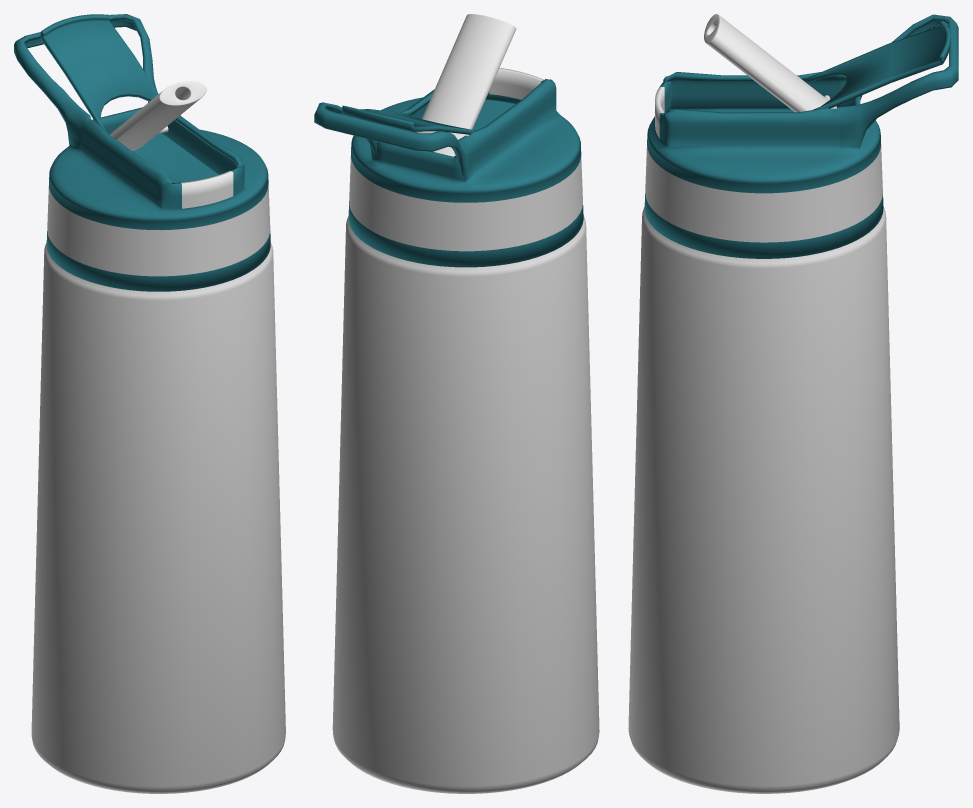
Rendered from bottle.fbx.
3 views of the same model, side by side, from view 1: azimuth 30°, elevation 25°; view 2: azimuth 150°, elevation 25°; view 3: azimuth 270°, elevation 25° (orthographic). The views are drawn at different scales.
Visible parts, largest first — view 1: Bottle.Cap; view 2: Bottle.Cap; view 3: Bottle.Cap.
Boxes of the visible parts, x1,y1,x2,y2 form: Bottle.Cap: (14, 14, 285, 793); Bottle.Cap: (314, 14, 599, 793); Bottle.Cap: (628, 14, 958, 793).
Bounding box in the file's own units: 18.89 × 55.27 × 22.99.
